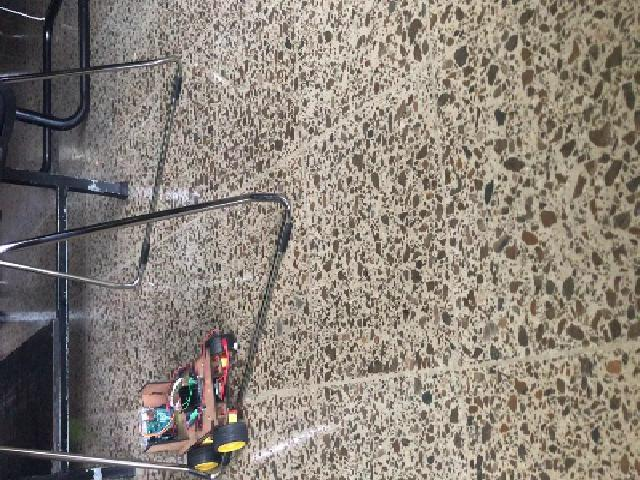Robot: (141, 336, 246, 470)
